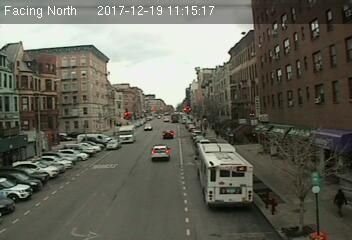bus: (196, 143, 253, 211)
car: (151, 144, 170, 161), (105, 139, 120, 150), (162, 129, 173, 138)
truck: (118, 125, 136, 143)
